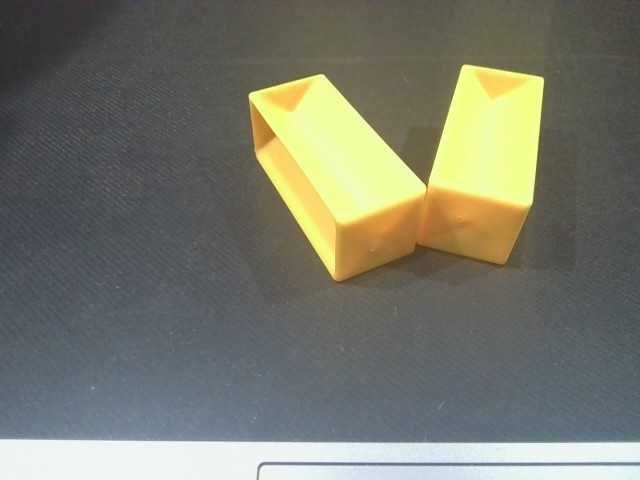YellowSample: (246, 72, 428, 282), (414, 45, 548, 270)
